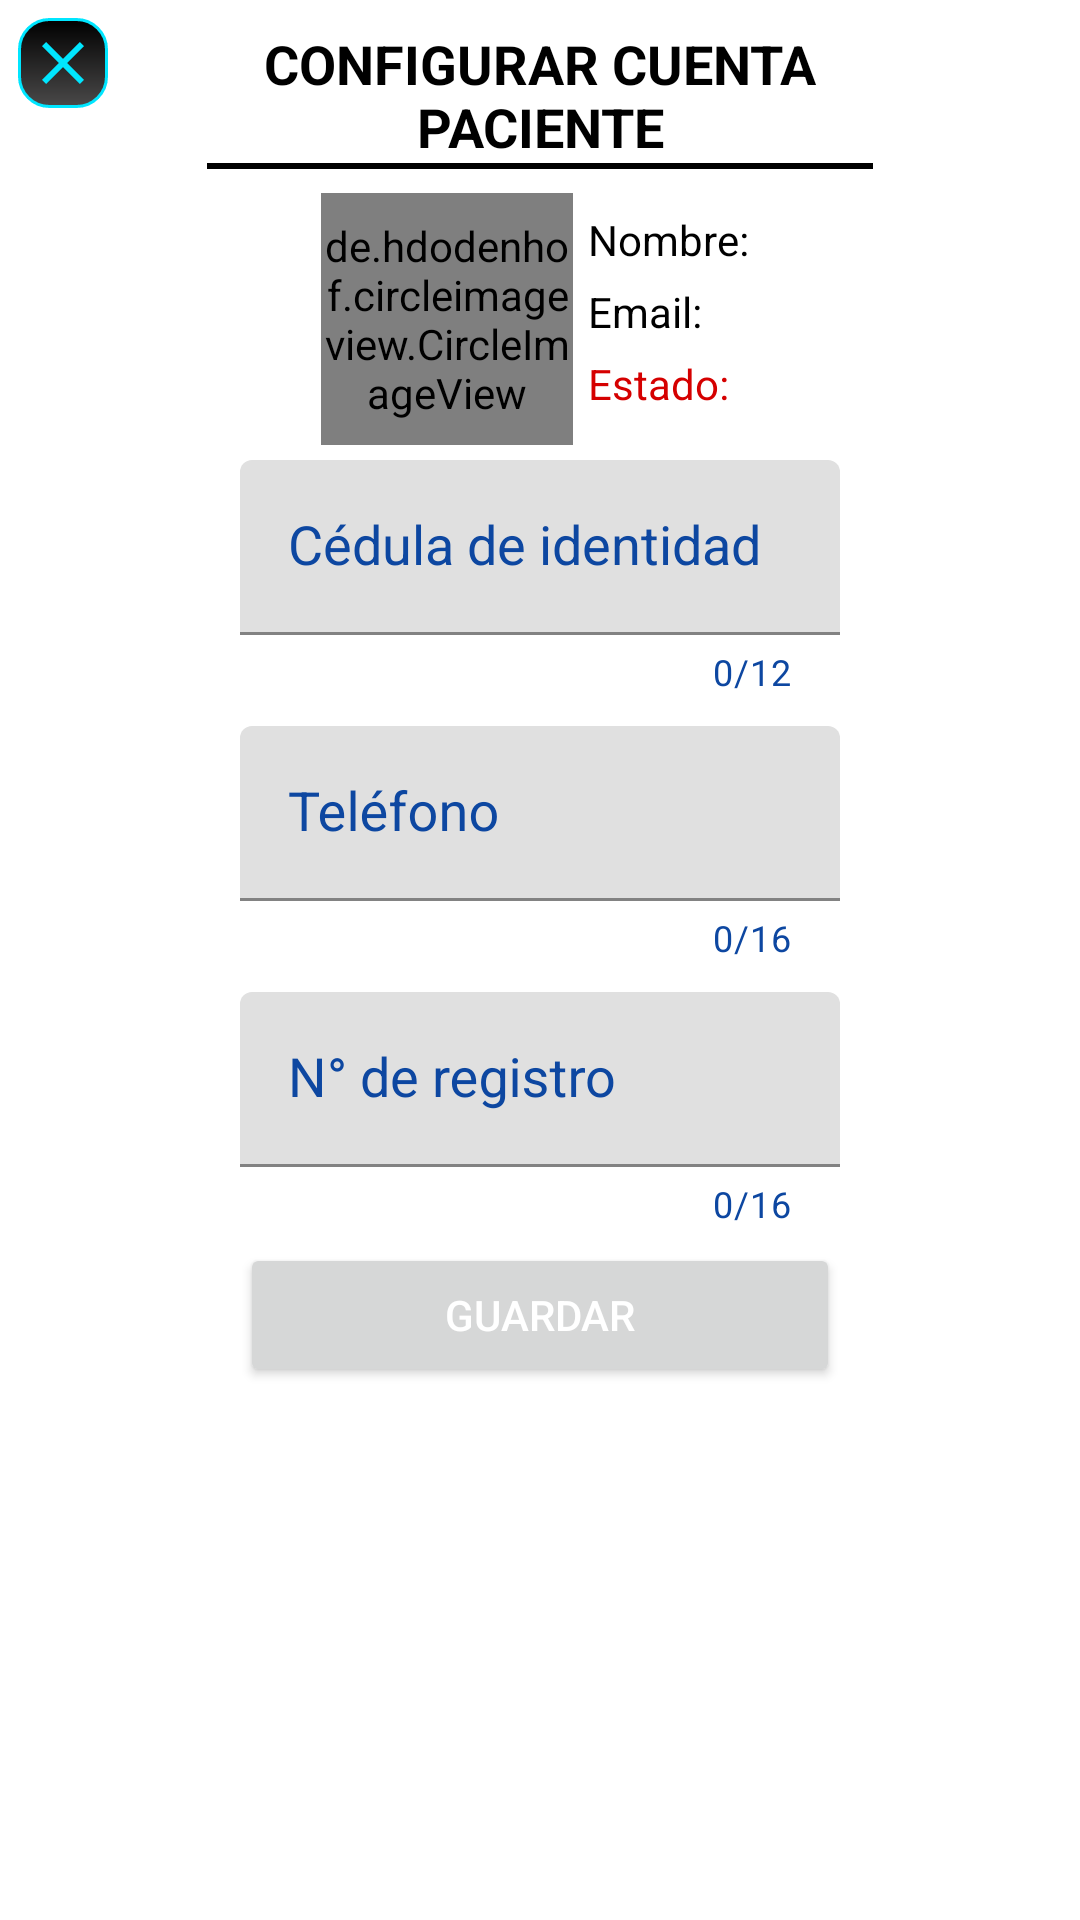

Locate icon controls on the screen. Image size 1080×1920, boxes as (x1, y1, x2, y2).
close: (18, 18, 108, 108)
